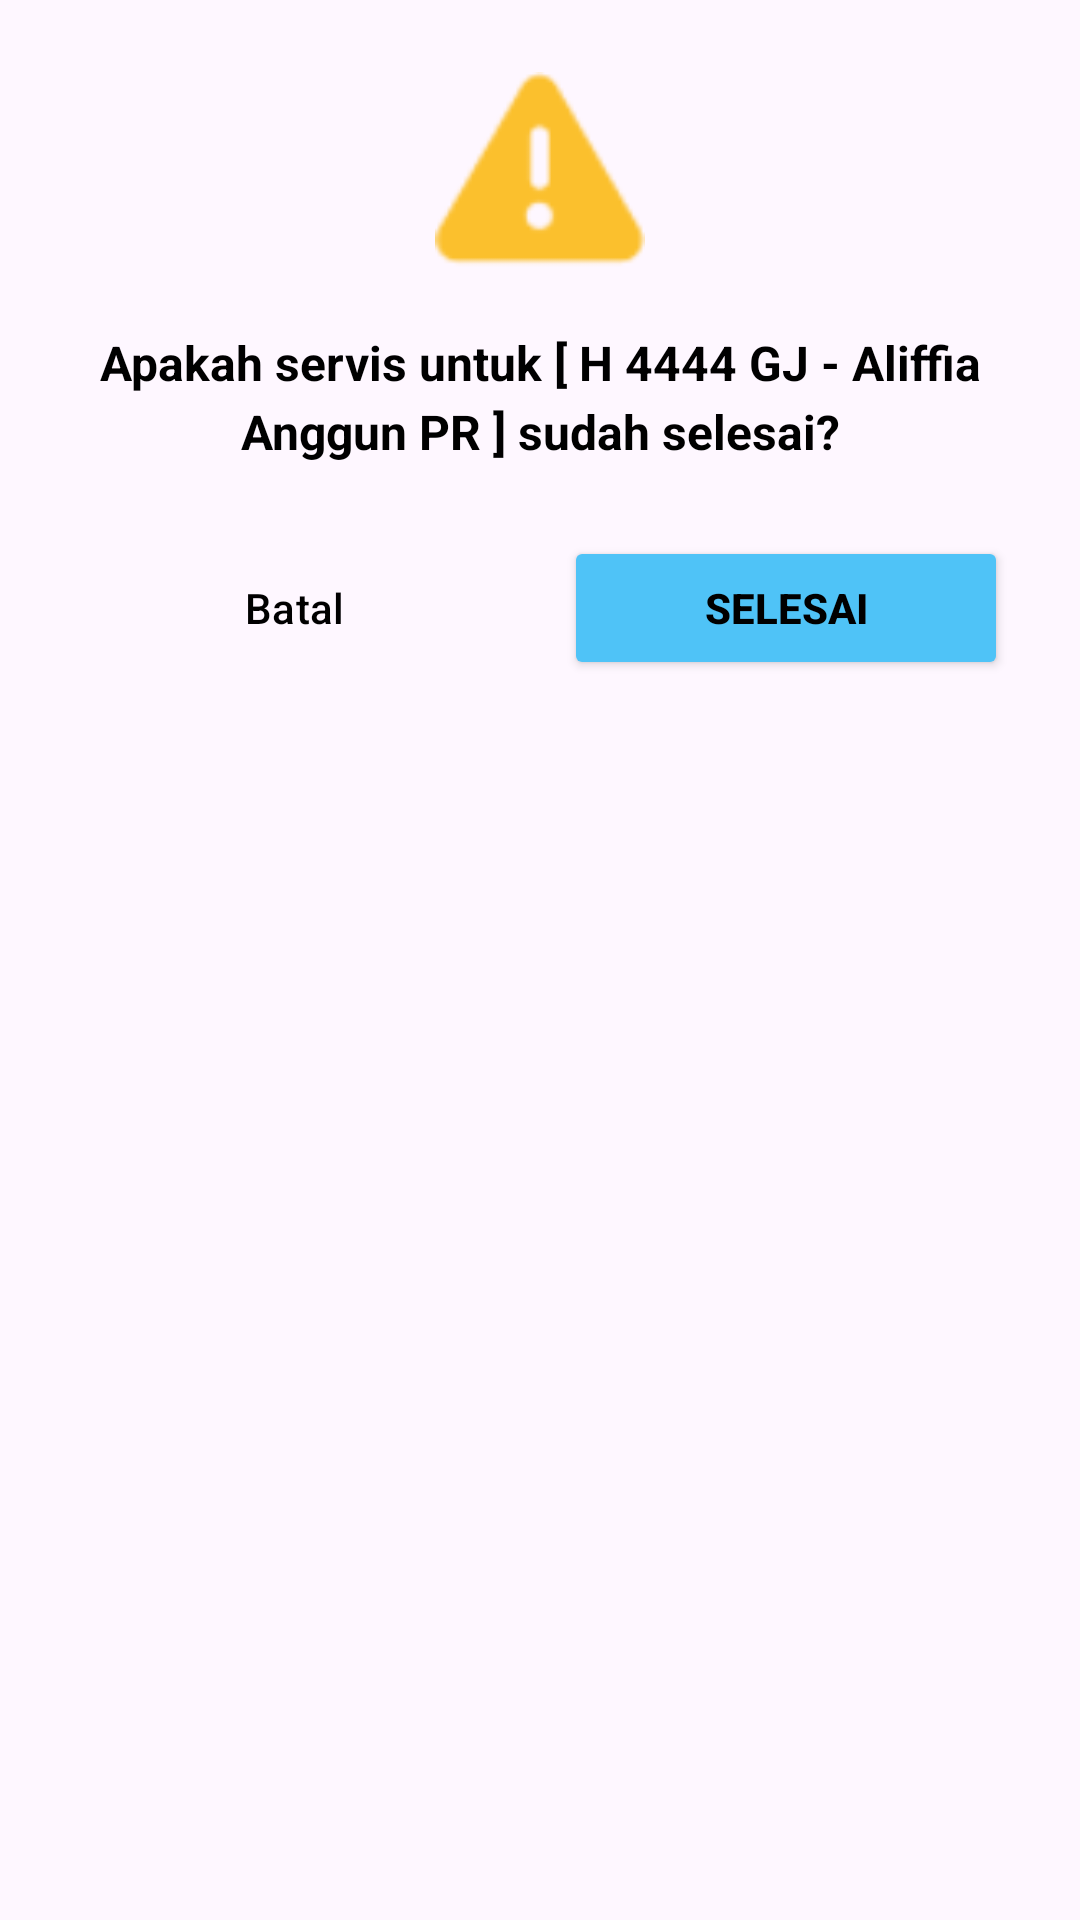

Screen size 1080w x 1920h. Icon name, then its box in pixels as (x1, y1, x2, y2):
alert: (435, 72, 645, 264)
